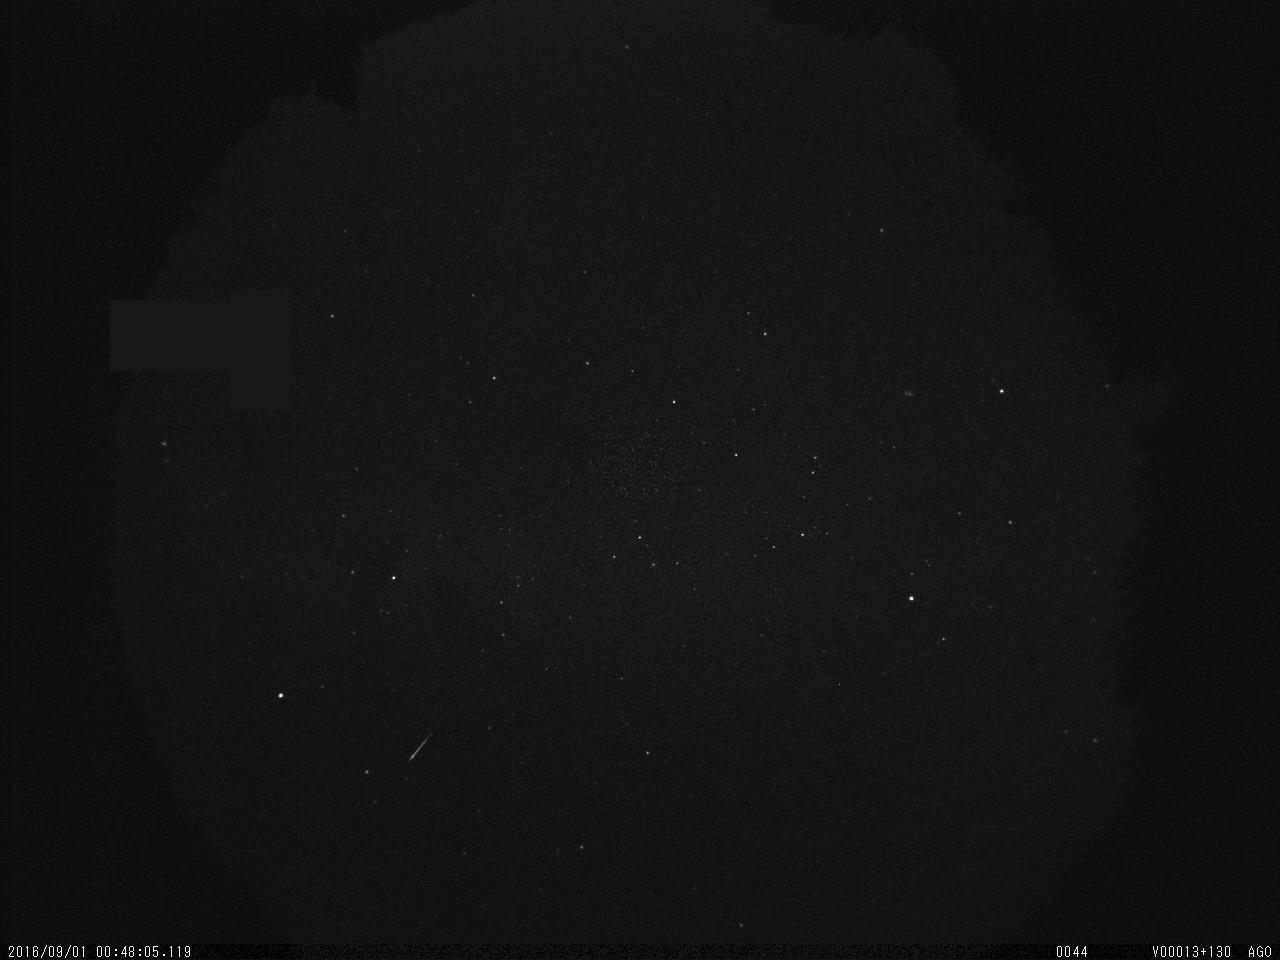meteor: (398, 725, 448, 776)
